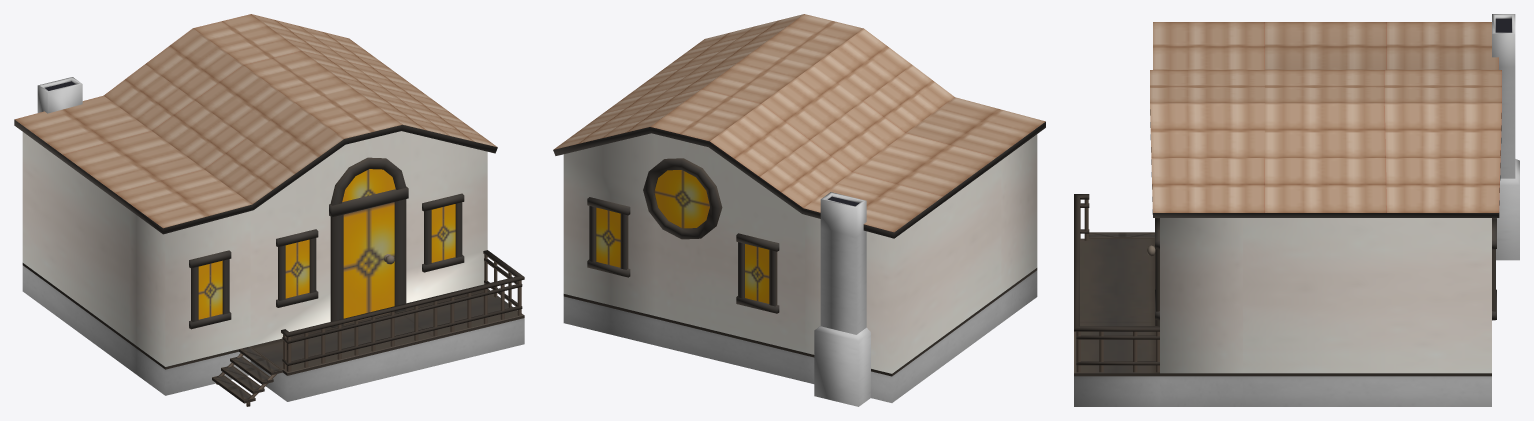
Rendered from Town Houses Variant 1 (Sepia).fbx.
3 views of the same model, side by side, from view 1: azimuth 30°, elevation 25°; view 2: azimuth 150°, elevation 25°; view 3: azimuth 270°, elevation 25° (orthographic). The views are drawn at different scales.
Visible parts, largest first — view 1: Town House 1 V2; view 2: Town House 1 V2; view 3: Town House 1 V2.
Part boxes in pixels (x1=…): Town House 1 V2: x1=14, y1=14, x2=524, y2=406; Town House 1 V2: x1=553, y1=14, x2=1045, y2=406; Town House 1 V2: x1=1074, y1=14, x2=1519, y2=406.
Bounding box in the file's own units: 789 × 490 × 782.
Materials: 1 (1 with a texture image).
